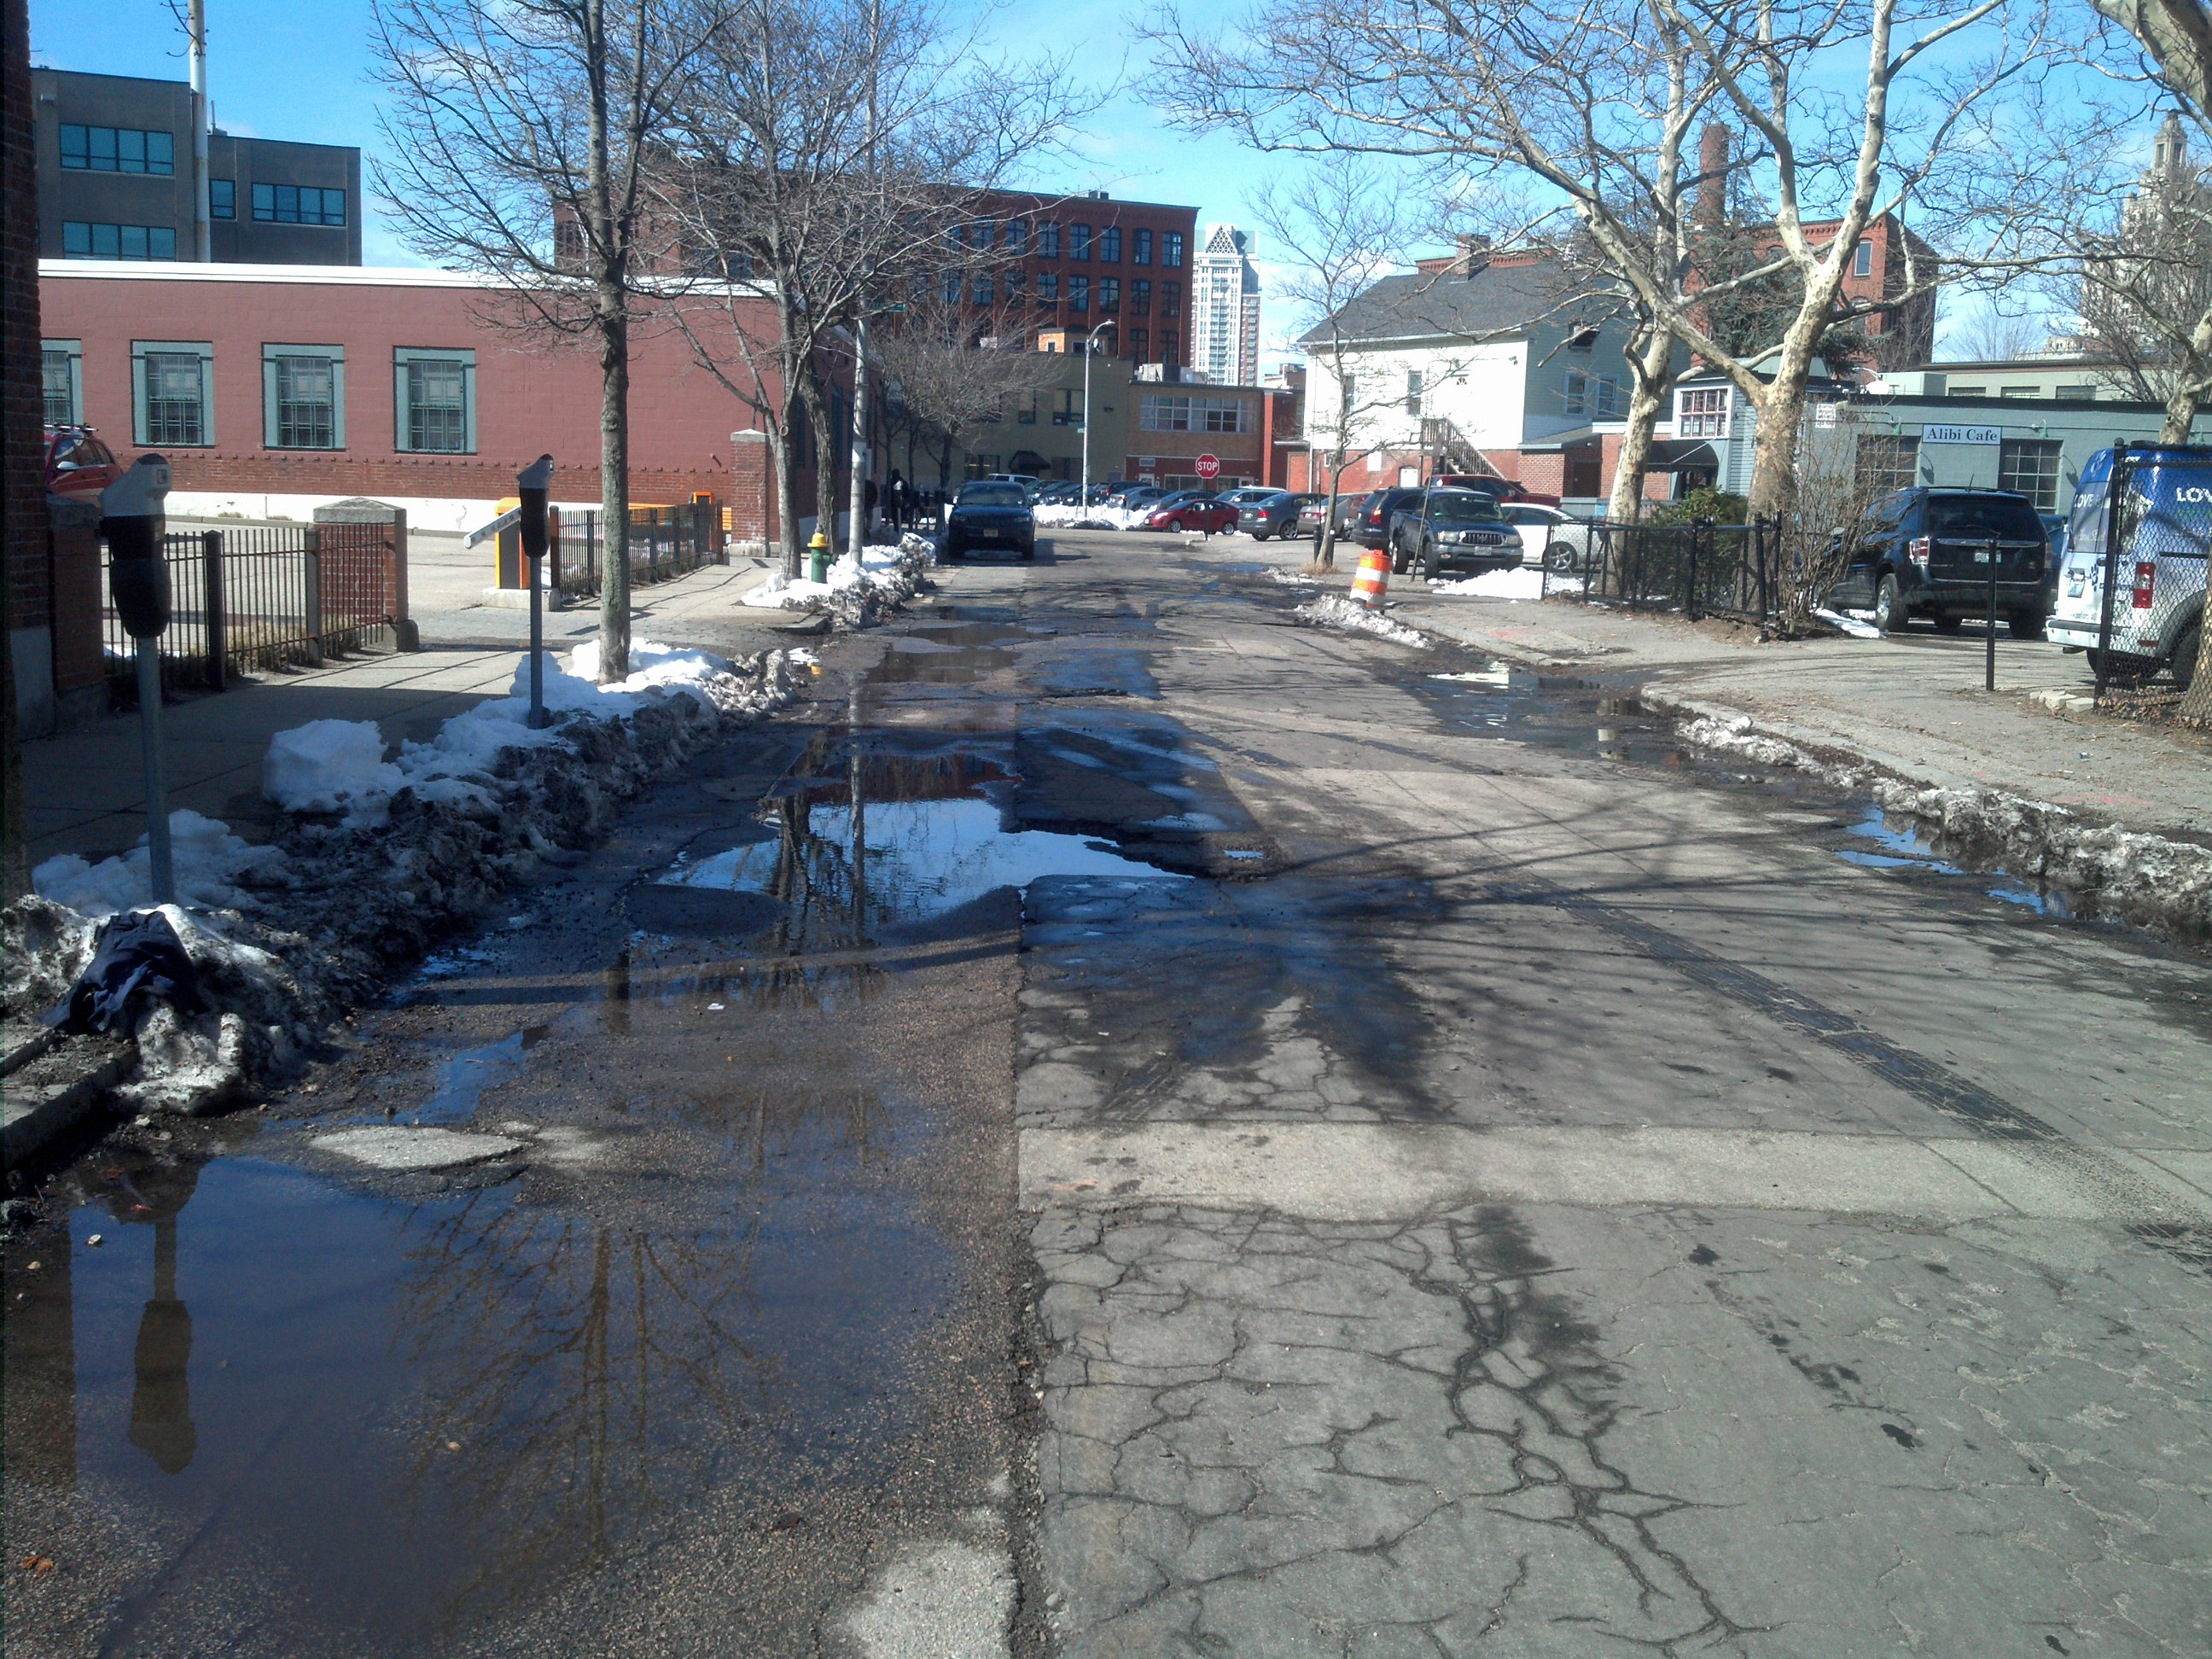pothole: (660, 732, 1198, 962)
